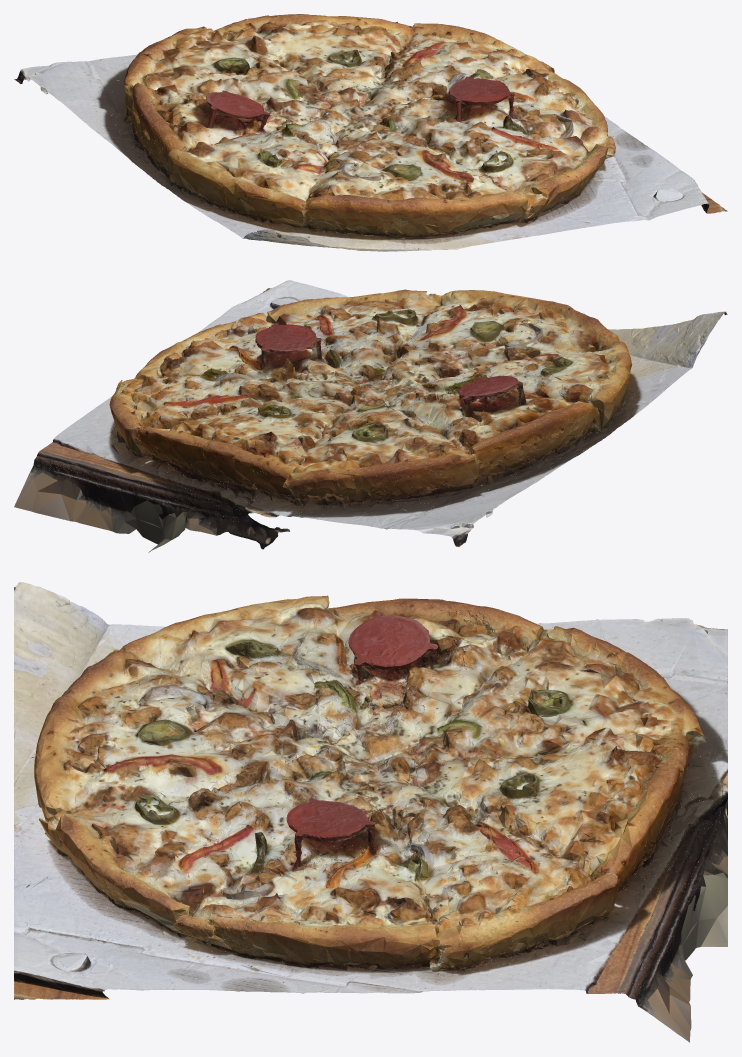
Rendered from mcart_ios-v1.glb.
The picture shows the model from 3 angles, top to bottom: view 1: azimuth 30°, elevation 25°; view 2: azimuth 150°, elevation 25°; view 3: azimuth 270°, elevation 25°; orthographic projection. The views are drawn at different scales.
Visible parts, largest first — view 1: Object_8, Object_9, Object_10, Object_2, Object_7, Object_6, Object_3, Object_5, Object_4, Object_11, Object_12; view 2: Object_2, Object_4, Object_3, Object_5, Object_8, Object_6, Object_7, Object_10, Object_9, Object_11, Object_12; view 3: Object_5, Object_2, Object_9, Object_10, Object_6, Object_4, Object_7, Object_3, Object_11, Object_8, Object_12.
Part boxes in pixels (x1,y1,x2,y2): Object_8: (101, 92, 460, 249); Object_9: (113, 69, 654, 251); Object_10: (195, 69, 727, 248); Object_2: (79, 14, 552, 168); Object_7: (149, 78, 656, 220); Object_6: (238, 99, 603, 203); Object_3: (91, 14, 503, 102); Object_5: (274, 19, 708, 220); Object_4: (14, 16, 516, 136); Object_11: (186, 50, 581, 137); Object_12: (359, 51, 560, 123); Object_2: (57, 376, 591, 515); Object_4: (33, 386, 542, 546); Object_3: (110, 377, 512, 528); Object_5: (14, 280, 627, 552); Object_8: (447, 321, 703, 474); Object_6: (298, 290, 630, 398); Object_7: (190, 290, 599, 439); Object_10: (242, 280, 727, 424); Object_9: (96, 290, 726, 471); Object_11: (127, 325, 508, 432); Object_12: (127, 326, 357, 404); Object_5: (14, 633, 727, 1042); Object_2: (359, 606, 689, 990); Object_9: (14, 582, 493, 992); Object_10: (14, 582, 493, 999); Object_6: (73, 623, 408, 893); Object_4: (464, 618, 727, 1006); Object_7: (44, 602, 452, 965); Object_3: (408, 609, 727, 919); Object_11: (293, 625, 493, 926); Object_8: (30, 595, 493, 747); Object_12: (293, 786, 493, 960).
Bounding box in the file's own units: 0.3192 × 0.0889 × 0.3236.
1 material, 1 textured.
